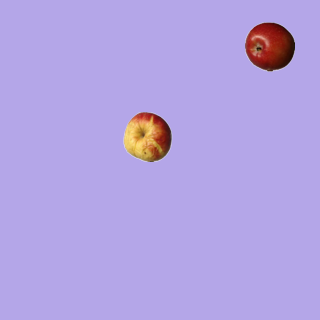Apple Braeburn: (244, 21, 294, 71)
Apple Red Yellow 1: (122, 111, 172, 161)
